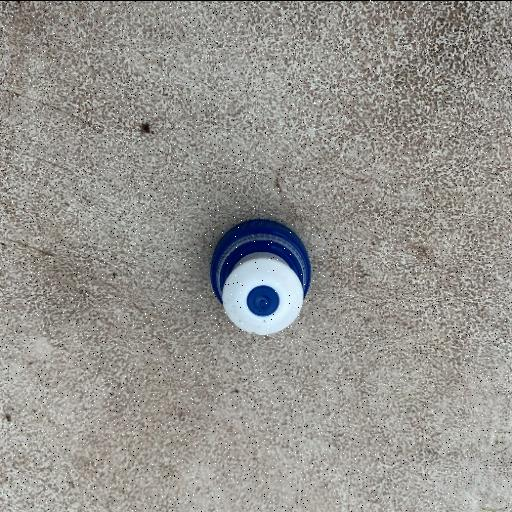Plastic: (208, 216, 314, 337)
